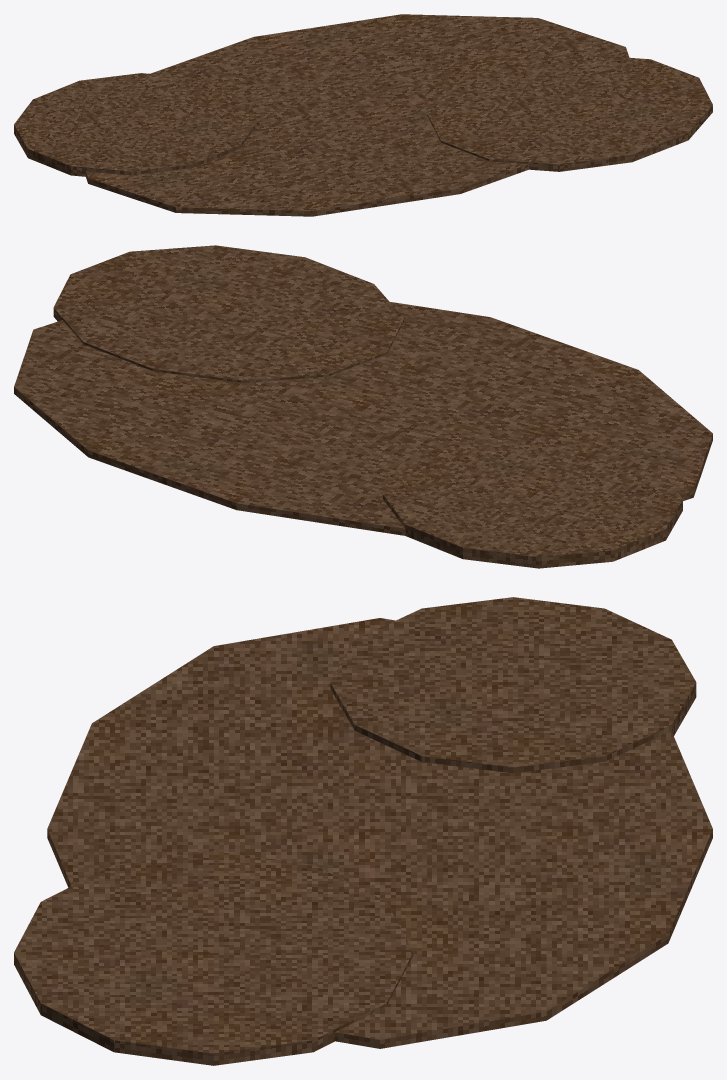
3 views of the same model, one above another, from view 1: azimuth 30°, elevation 25°; view 2: azimuth 150°, elevation 25°; view 3: azimuth 270°, elevation 25° (orthographic). The views are drawn at different scales.
Parts seen in each view (by area): view 1: Decor_mud_patch; view 2: Decor_mud_patch; view 3: Decor_mud_patch.
Boxes of the visible parts, x1,y1,x2,y2 form: Decor_mud_patch: [14, 14, 712, 216]; Decor_mud_patch: [14, 245, 712, 568]; Decor_mud_patch: [14, 597, 712, 1065].
Bounding box in the file's own units: 3.23 × 0.05 × 2.1.
1 material, 1 textured.
